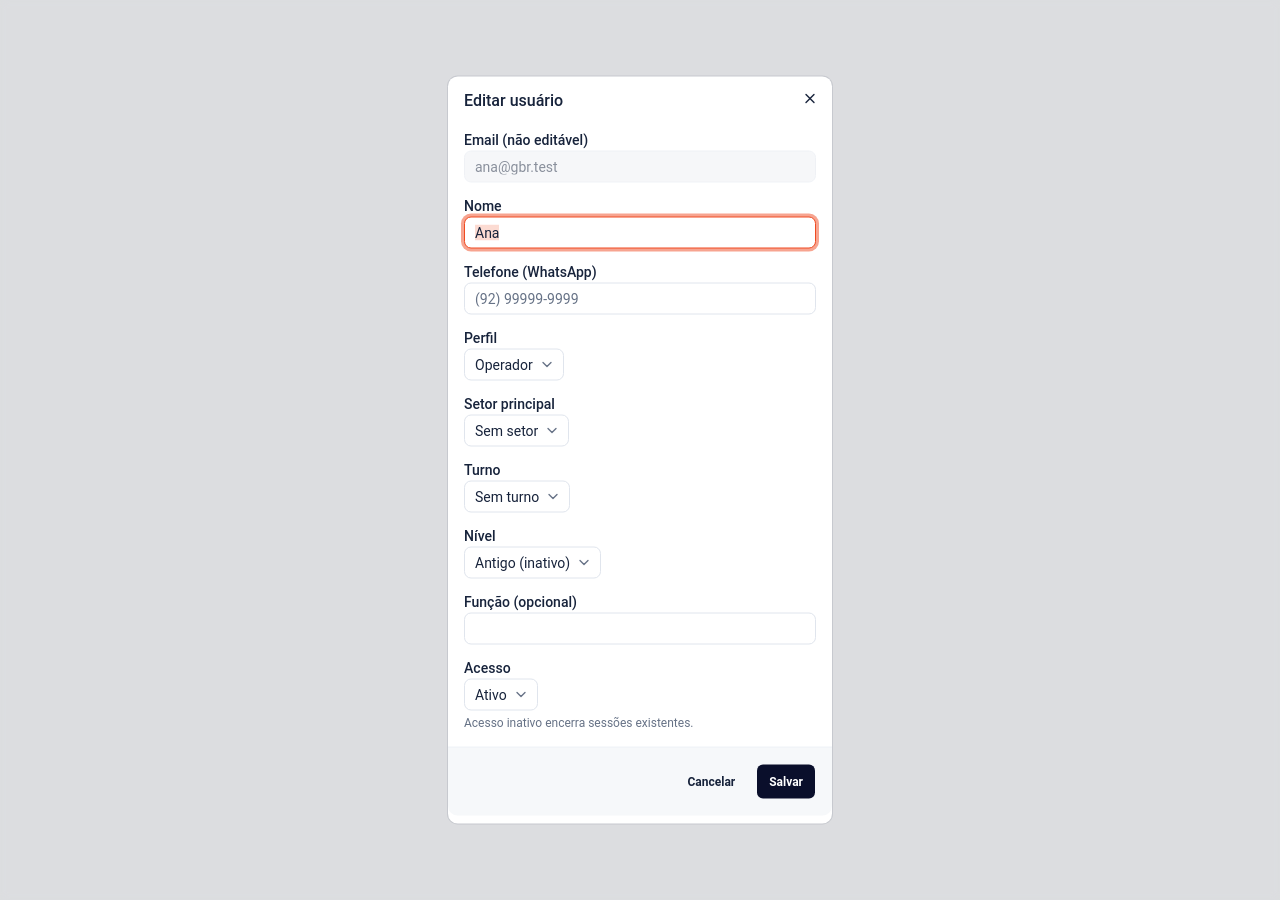
Test: EditUserDialog nível › nível inativo atual aparece selecionado (e some das opções se trocar)
Click the dropdown named "Nível" at [533, 562], box [464,546,601,578]
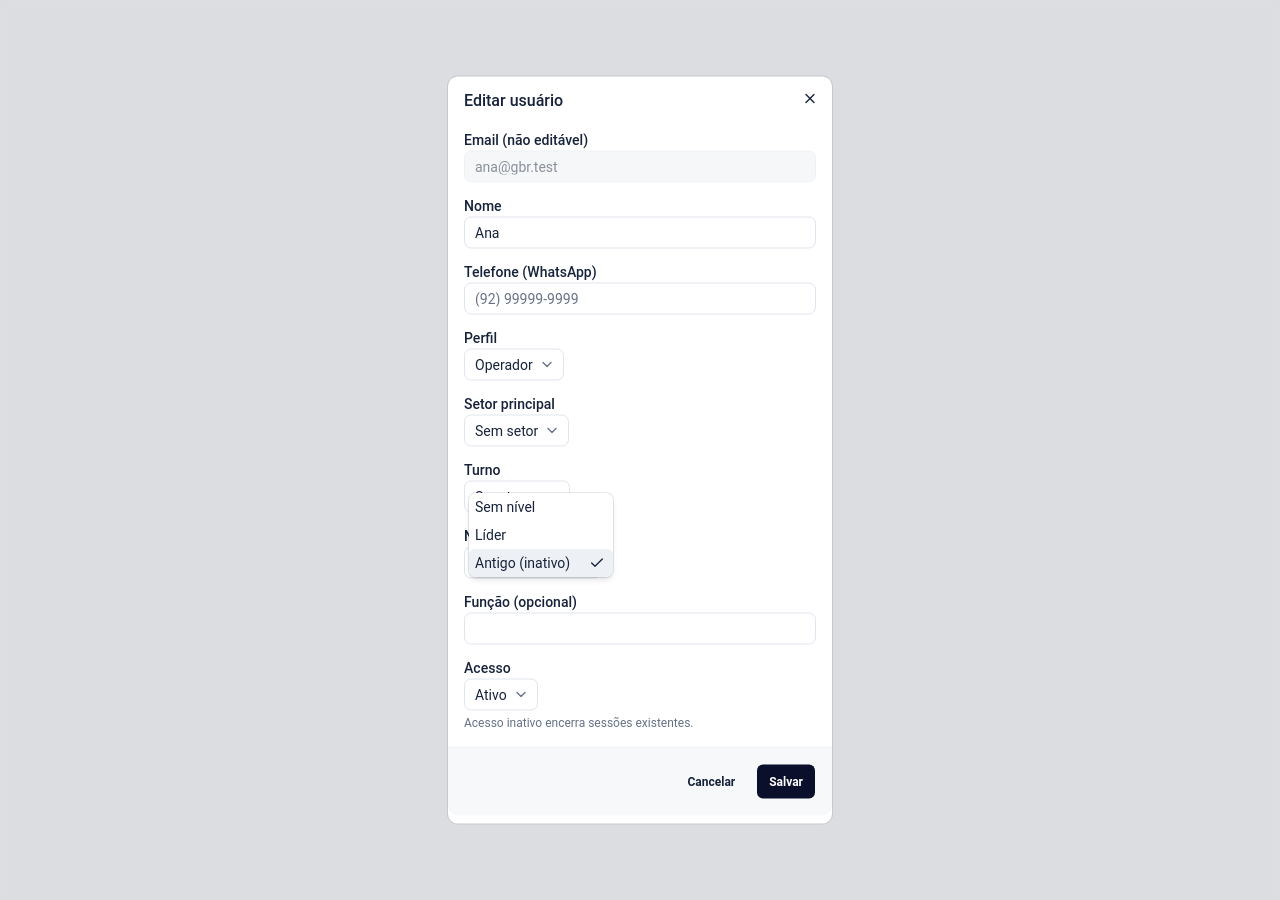
Now the options read "Sem nível", "Líder", "Antigo (inativo)", in this order, box [475,498,535,514]; [475,526,506,542]; [469,548,613,576]
